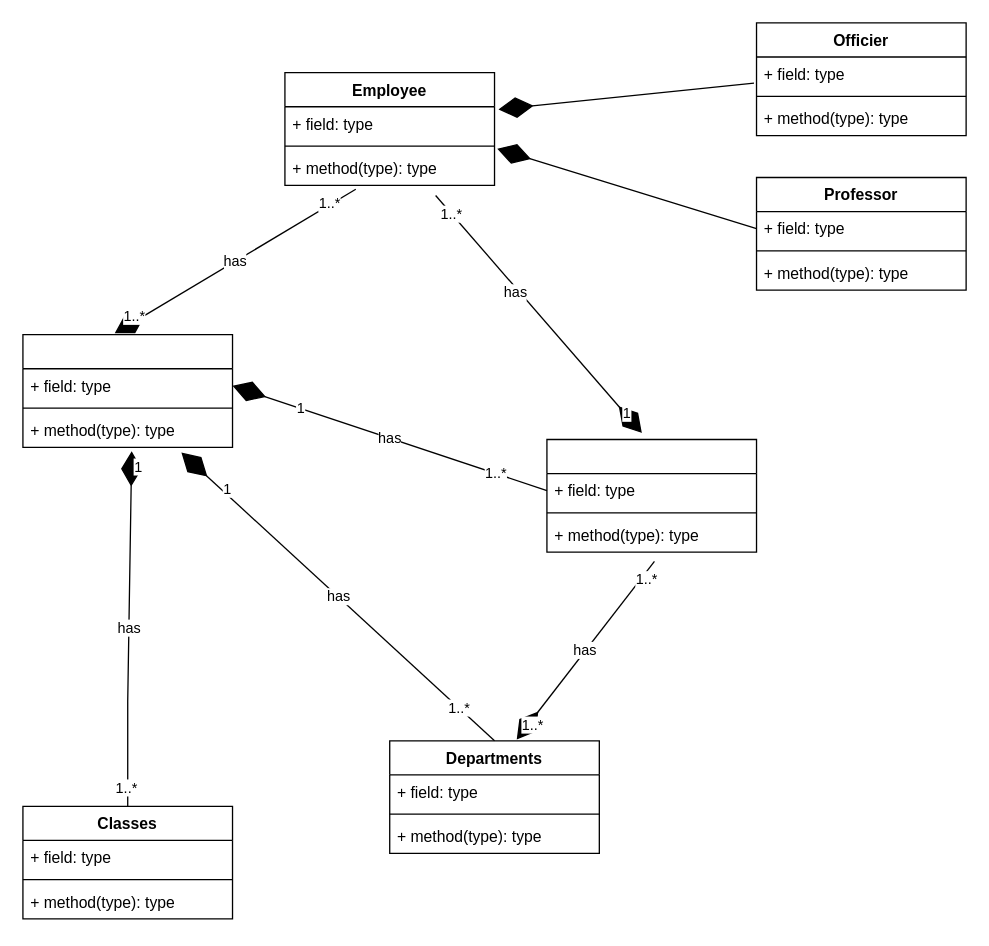
This 989x946 diagram has some shape labels left out. Here are the shapes that lost their labels. From the top down, the box of each, then its label:
(22, 333, 233, 447): University
(546, 438, 757, 552): Offices
